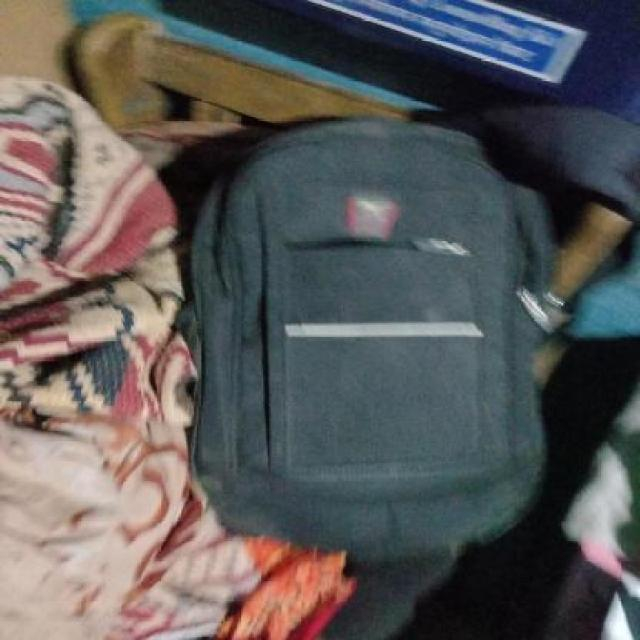backpack: (177, 111, 568, 566)
